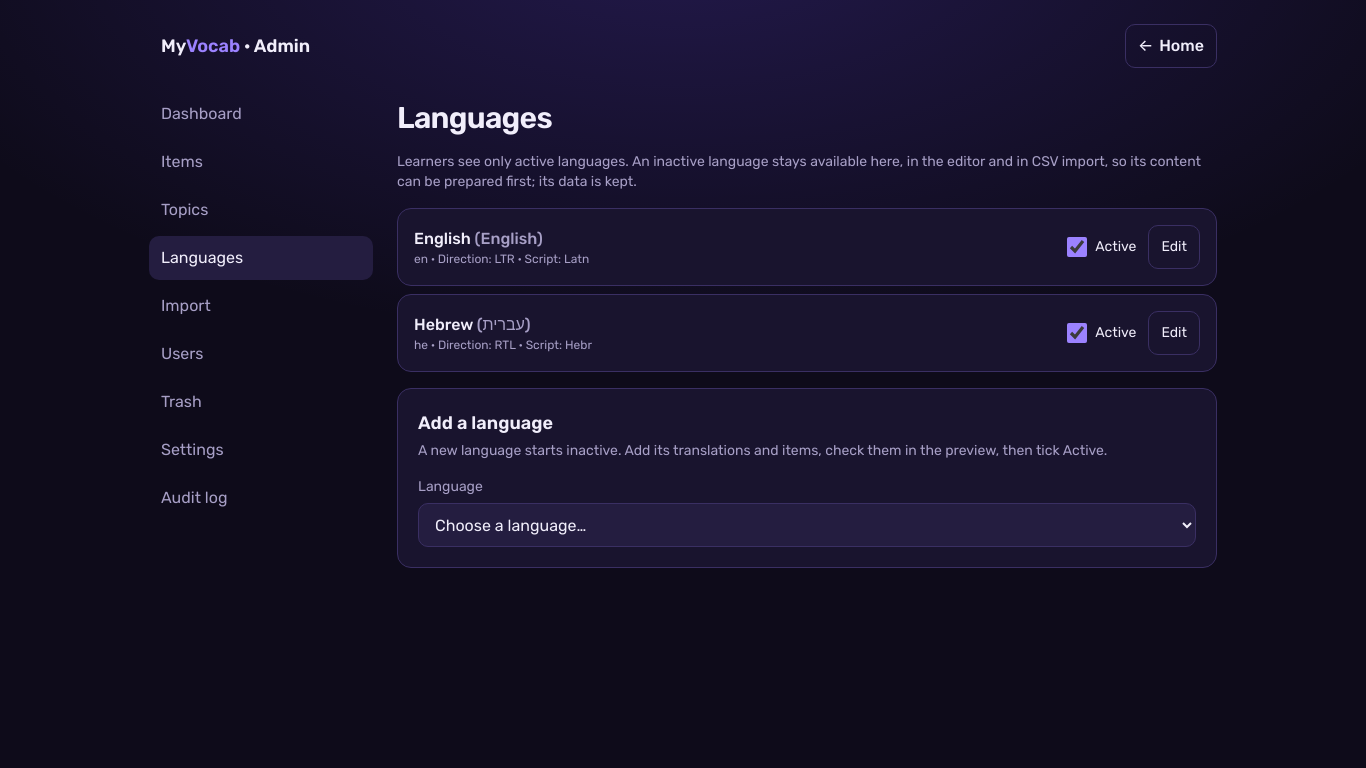
Test: LanguagesPage (FR-A35, D-027) › a preset fills the details; the new language is added inactive
Expected: the option does not show "Hebrew (עברית)"
Select "Arabic (العربية)" in the dropdown labelled "Language" at (807, 525), box [418,503,1196,547]
(page scrolled)
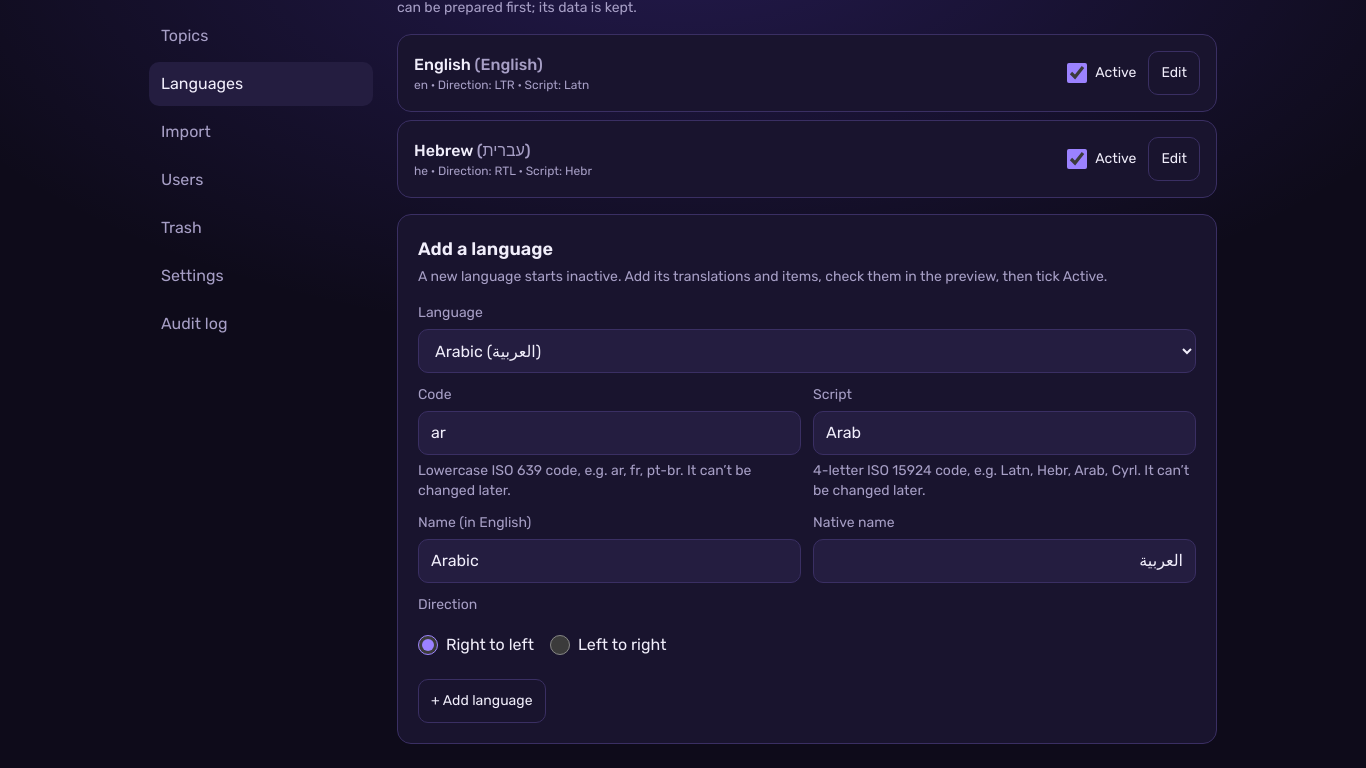
Expected: the field labelled "Code" holds "ar", [418,411,801,455]
Expected: the field labelled "Name (in English)" holds "Arabic", [418,539,801,583]
Expected: the field labelled "Native name" holds "العربية", [813,539,1196,583]
Click the button "+ Add language" at (482, 701), box [418,679,546,723]
(page scrolled)
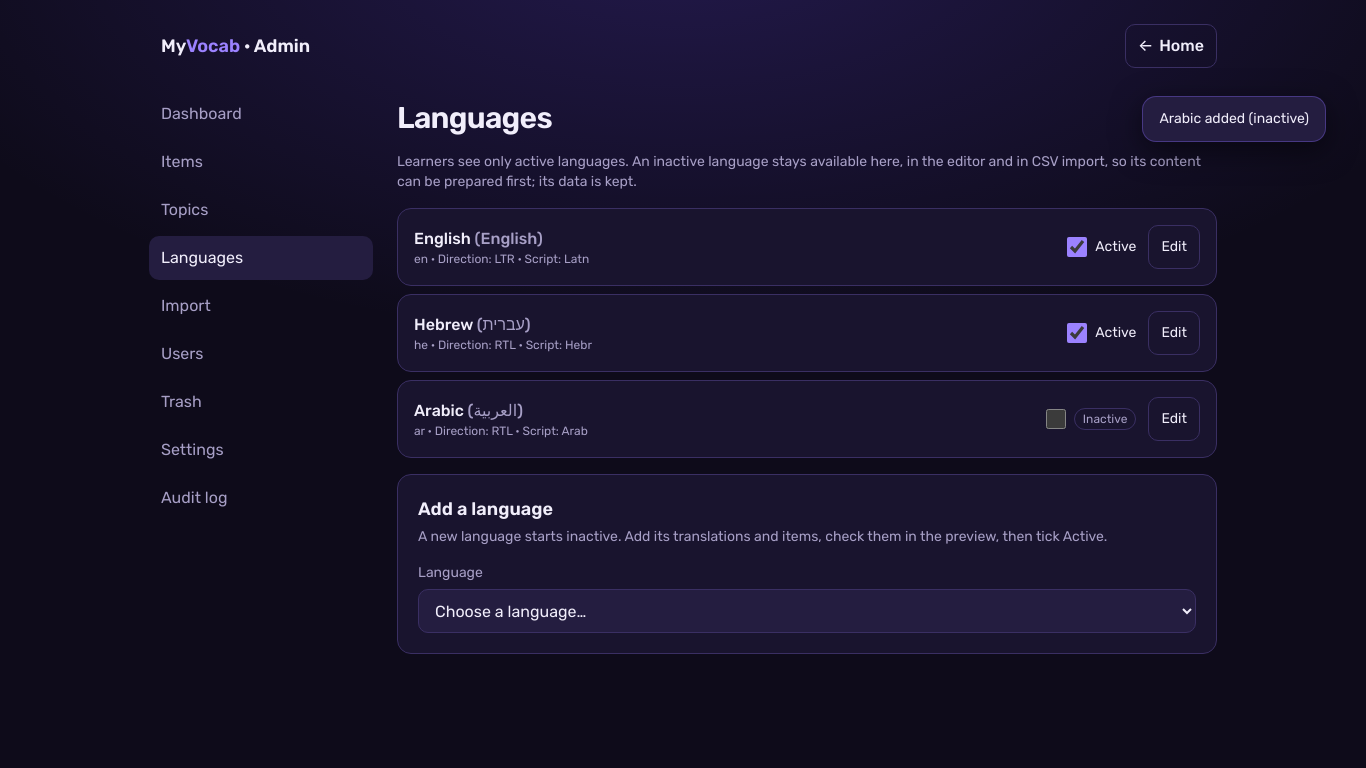
Expected: the checkbox named "Arabic active" is not checked, [1046,409,1066,429]
Expected: the text "Inactive" is shown, [1074,408,1136,430]
Expected: the text "Arabic added (inactive)" is shown, [1159,109,1309,129]
